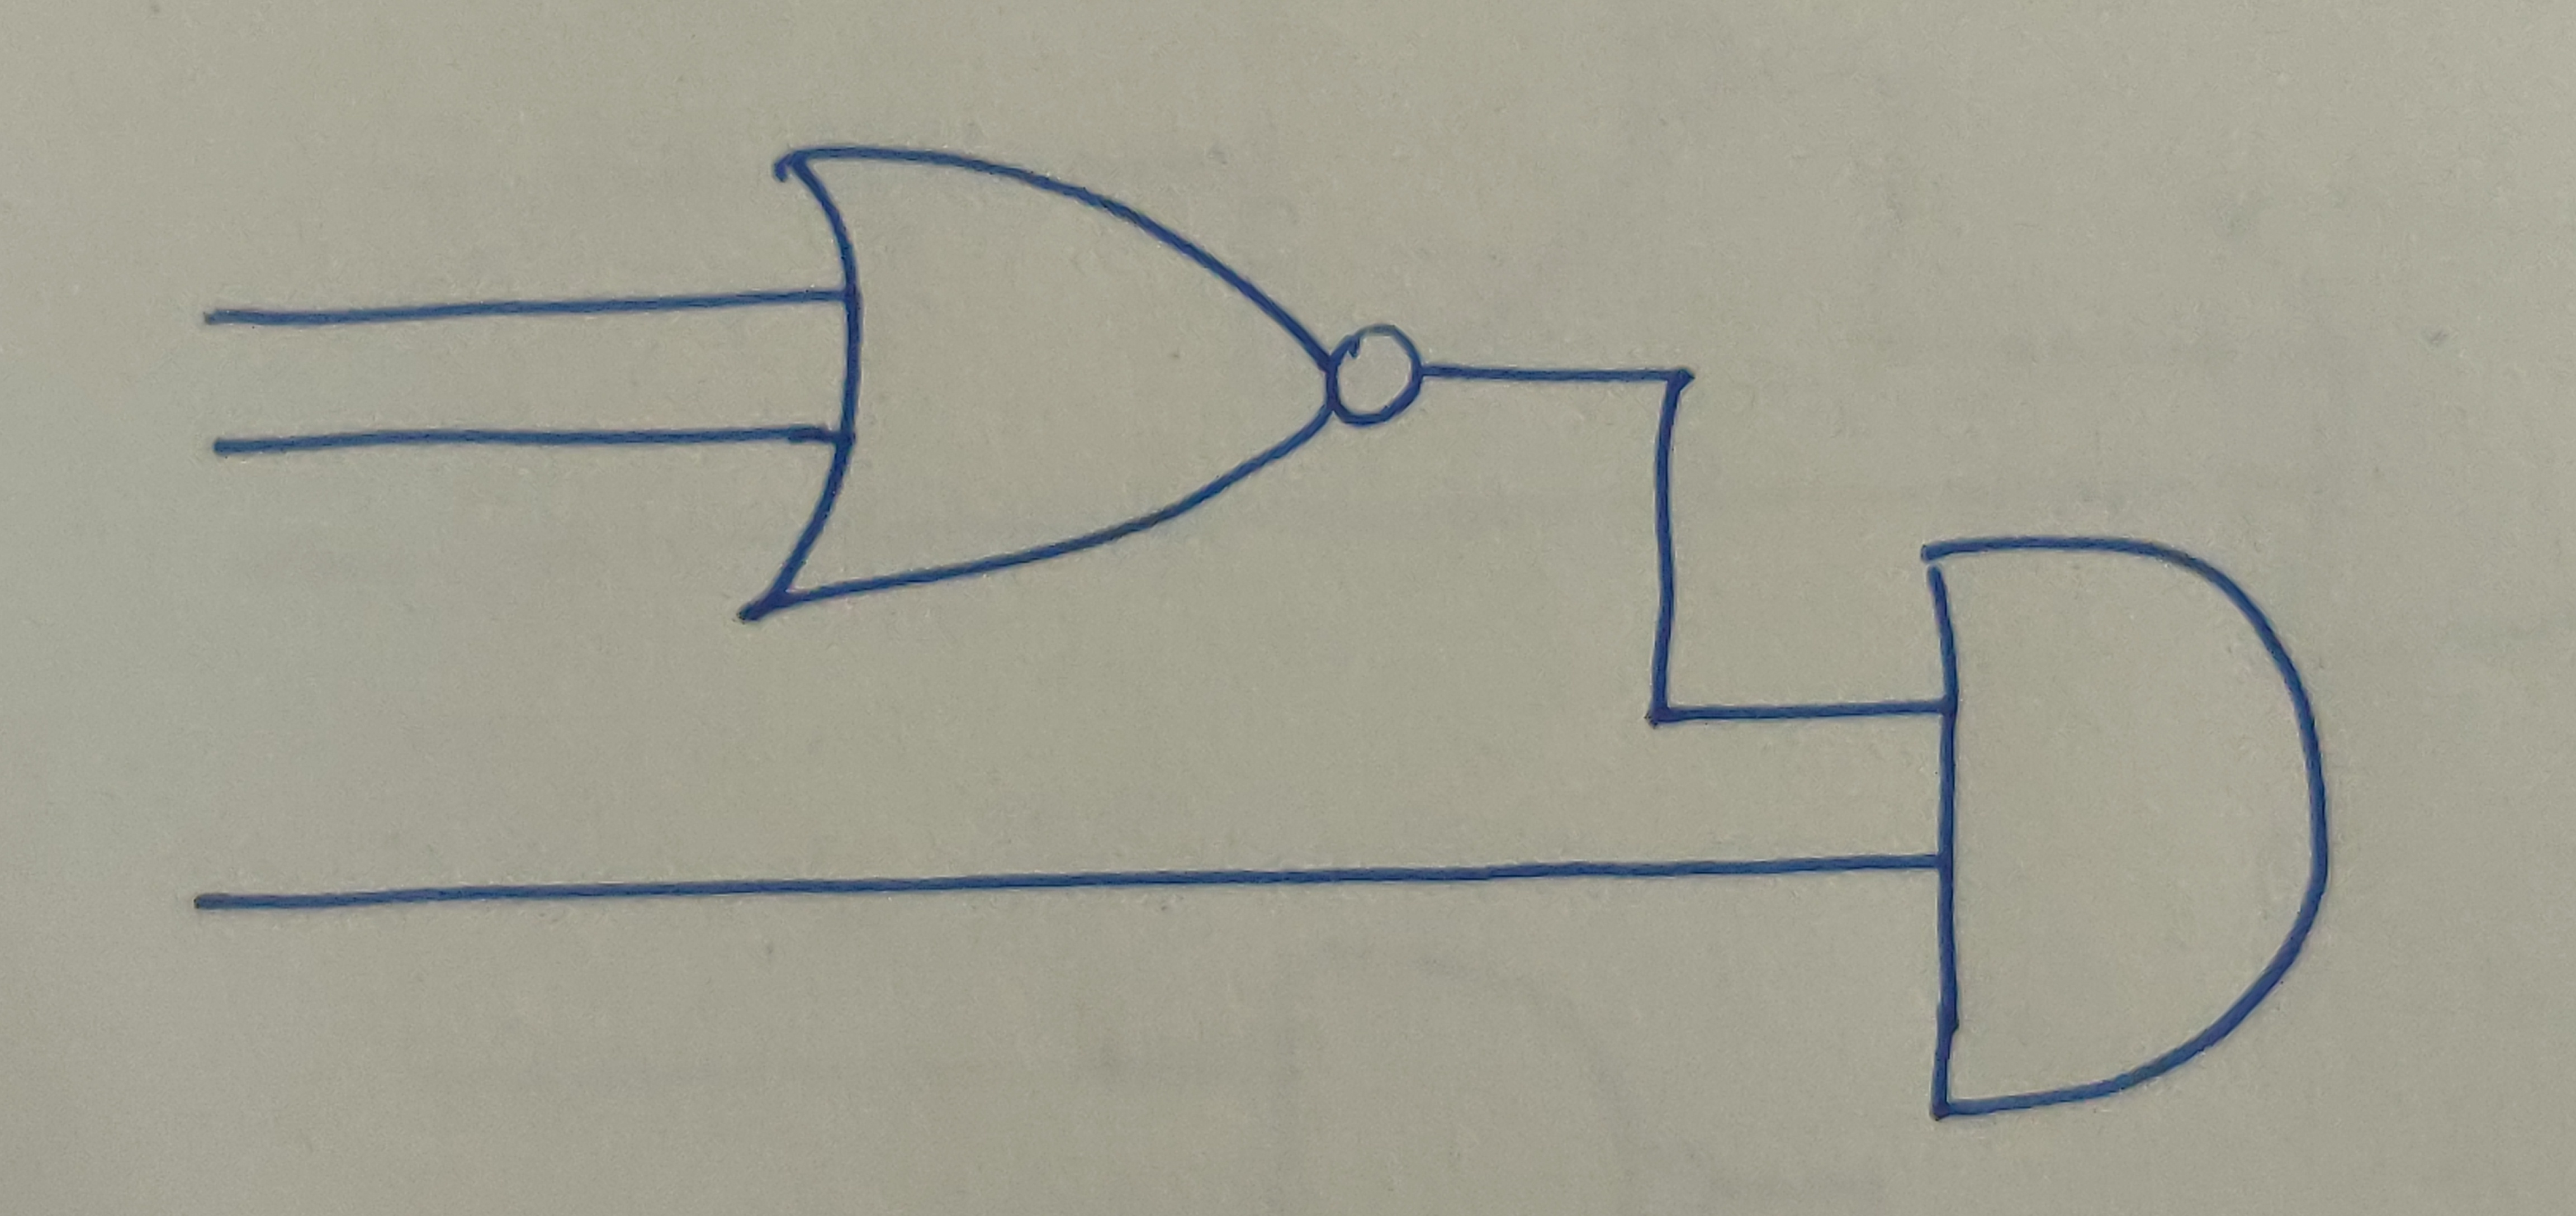and: (1916, 529, 2333, 1124)
or: (739, 138, 1337, 628)
